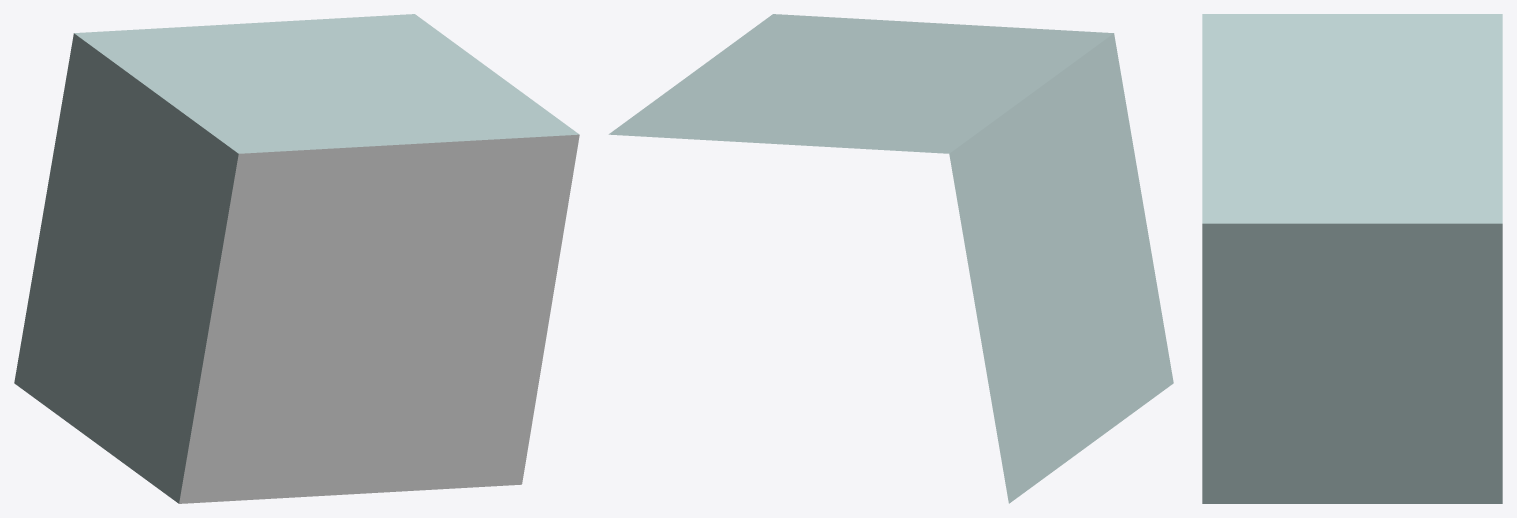
The picture shows the model from 3 angles, left to right: view 1: azimuth 30°, elevation 25°; view 2: azimuth 150°, elevation 25°; view 3: azimuth 270°, elevation 25°; orthographic projection. The views are drawn at different scales.
Visible parts, largest first — view 1: 0_3_1_2_3_2_3_1_0; view 2: 0_3_1_2_3_2_3_1_0; view 3: 0_3_1_2_3_2_3_1_0.
Boxes of the visible parts, x1,y1,x2,y2 form: 0_3_1_2_3_2_3_1_0: (14,14,579,503); 0_3_1_2_3_2_3_1_0: (608,14,1173,503); 0_3_1_2_3_2_3_1_0: (1202,14,1502,503).
Size of the model in its own units: 4.21 by 4.02 by 3.
